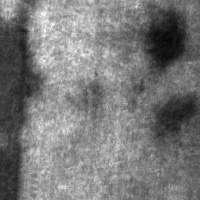patches: (0, 1, 44, 186), (138, 4, 190, 72), (154, 90, 199, 137)
